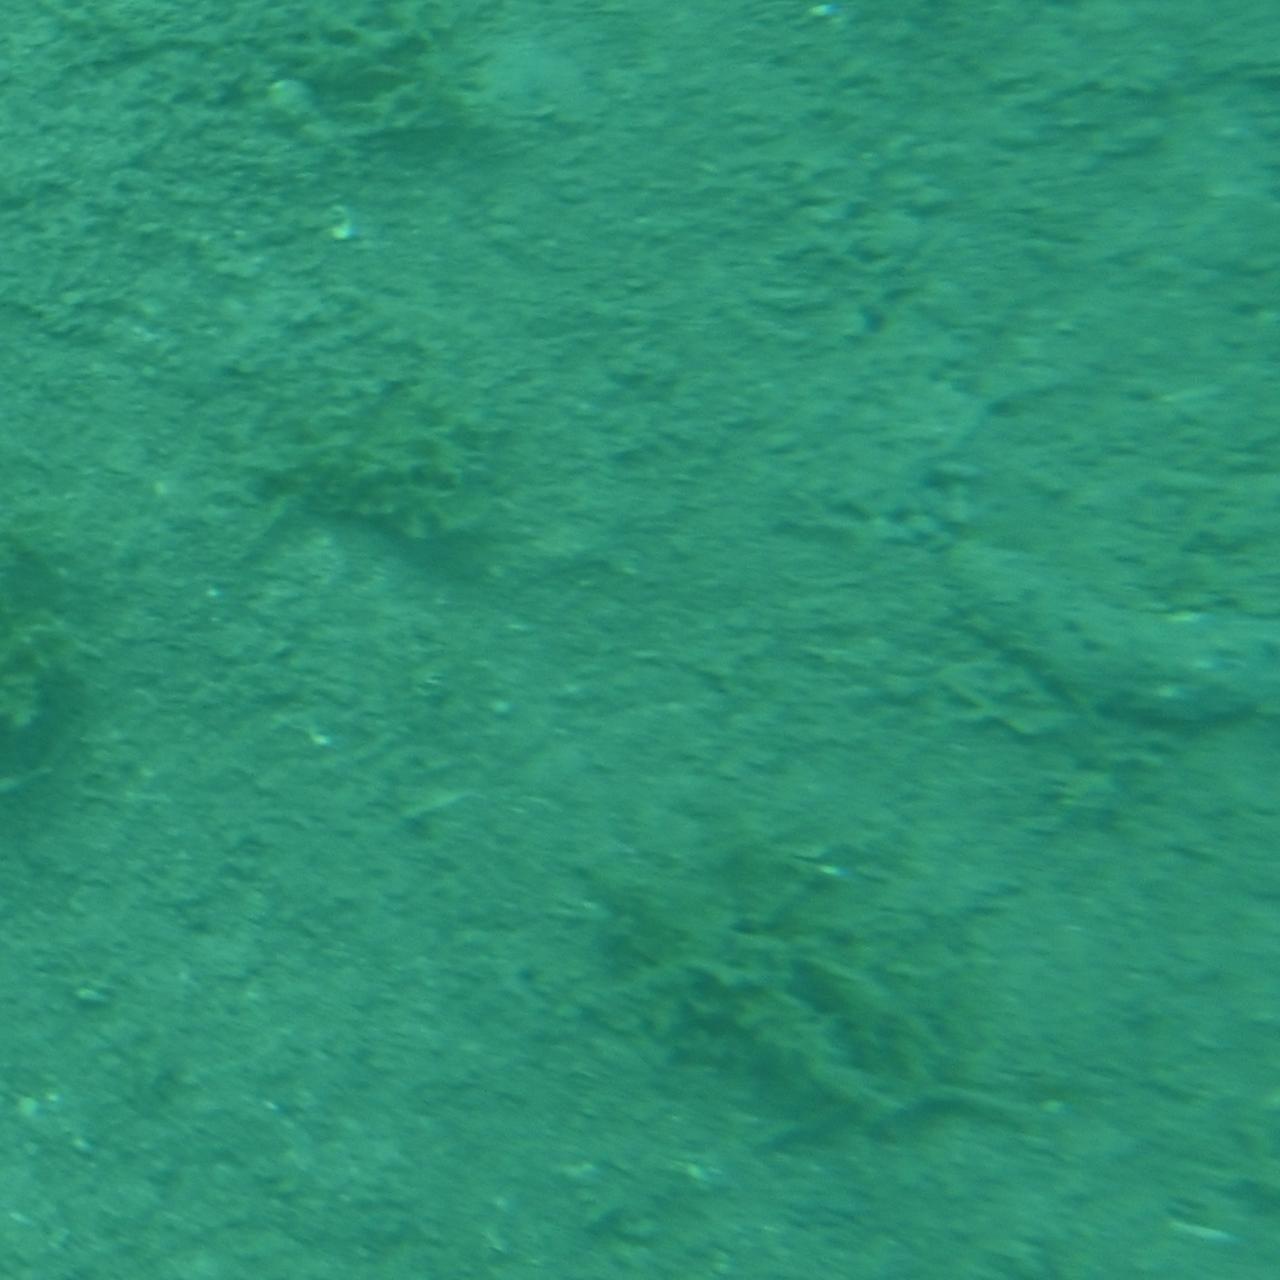Holothuria tubulosa: (920, 524, 1280, 756)
